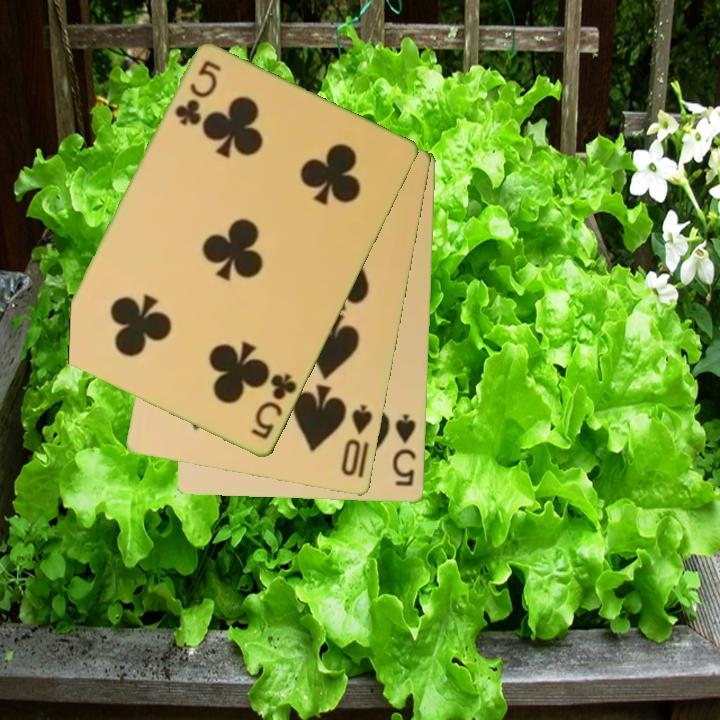10s: (338, 401, 376, 480)
5c: (248, 370, 301, 444), (172, 57, 224, 130)
5s: (389, 411, 419, 489)
